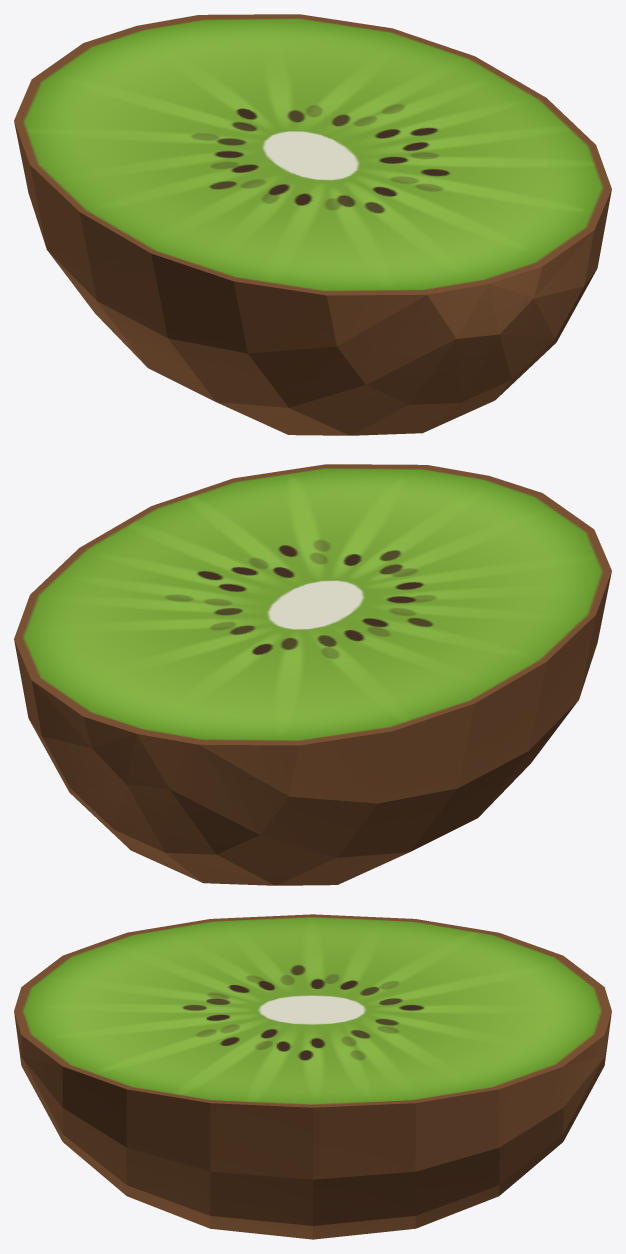
The model's file is FOD0110012.fbx.
3 views of the same model, one above another, from view 1: azimuth 30°, elevation 25°; view 2: azimuth 150°, elevation 25°; view 3: azimuth 270°, elevation 25° (orthographic). The views are drawn at different scales.
Visible parts, largest first — view 1: smFOD0110012; view 2: smFOD0110012; view 3: smFOD0110012.
Part boxes in pixels (box(x1,y1,x2,y2)): smFOD0110012: box(14, 14, 611, 435); smFOD0110012: box(14, 464, 611, 885); smFOD0110012: box(14, 914, 611, 1239).
Size of the model in its own units: 7.78 by 3.89 by 10.17.
Materials: 1 (1 with a texture image).
